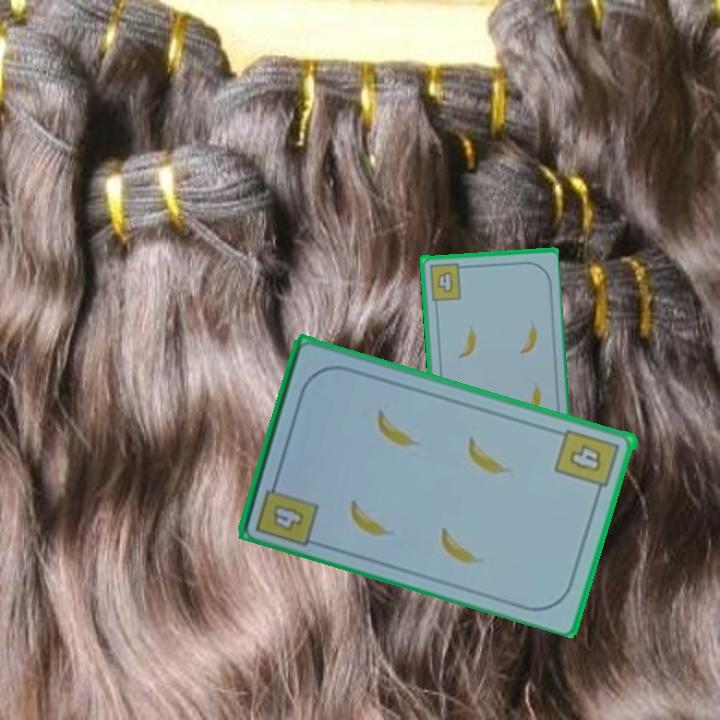4b: (252, 472, 322, 549), (552, 425, 624, 499), (426, 259, 468, 303)
